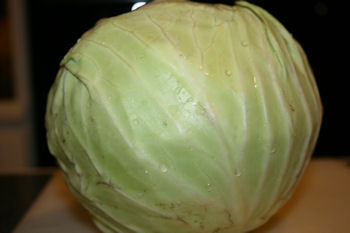cabbage: (43, 0, 323, 232)
